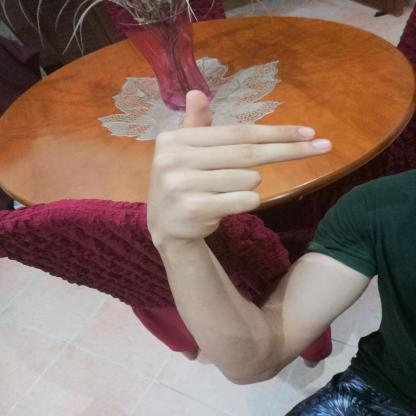GHAYN: (128, 78, 351, 250)
